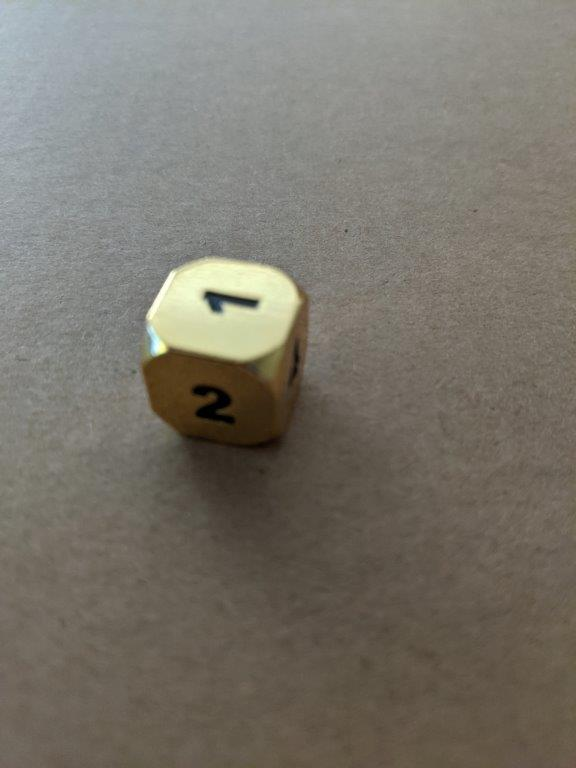d6-1: (141, 255, 307, 446)
